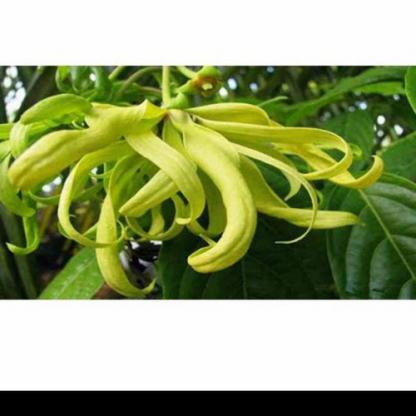Kenanga: (52, 106, 302, 247)
